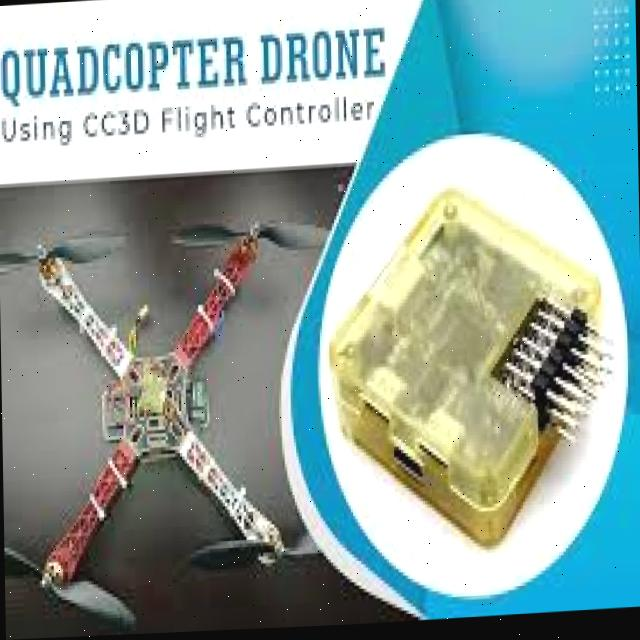drone: (0, 197, 335, 640)
